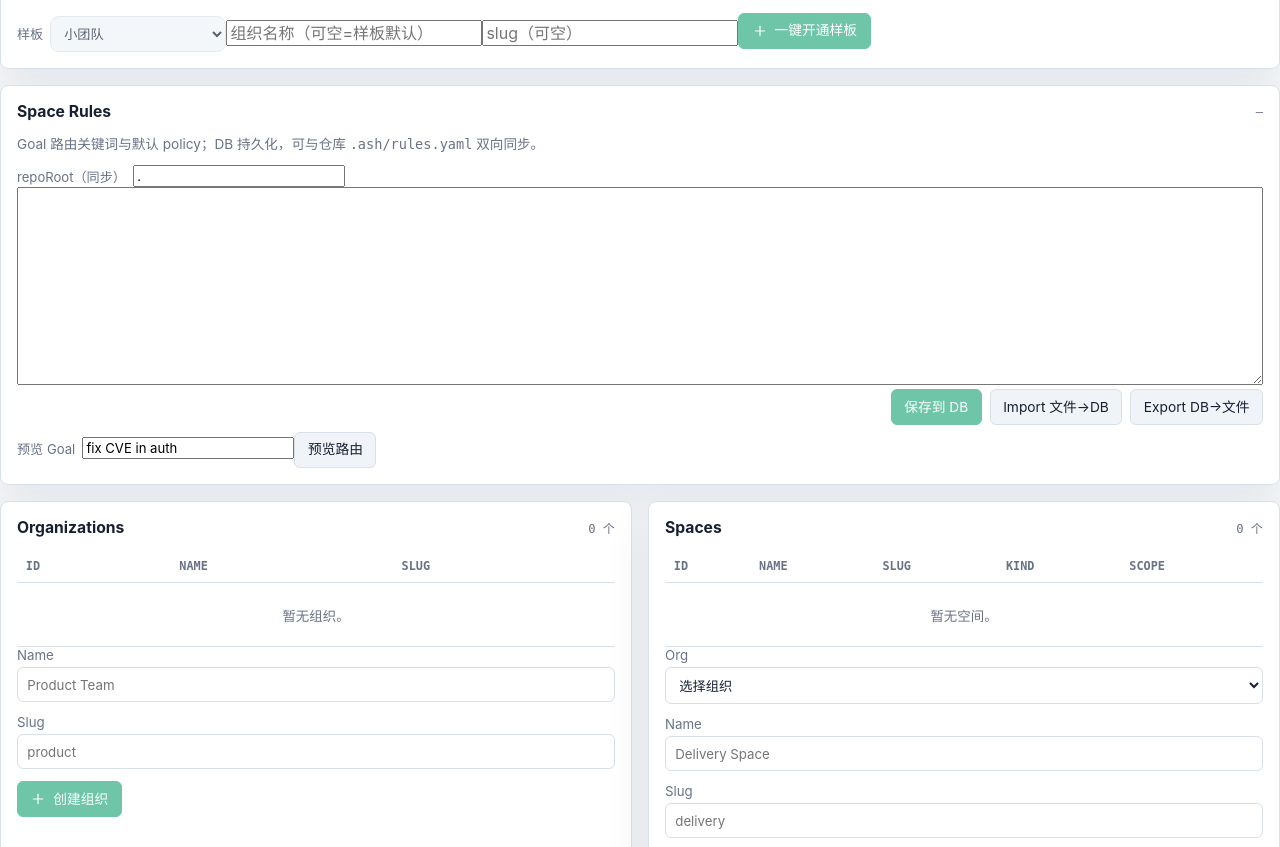
Test case: SpacePage › disables rules preview when Goal is empty
(page scrolled)
Step 1. Clear the field with test id "space-rules-preview-goal" → point(188, 448), box [82,438,294,460]
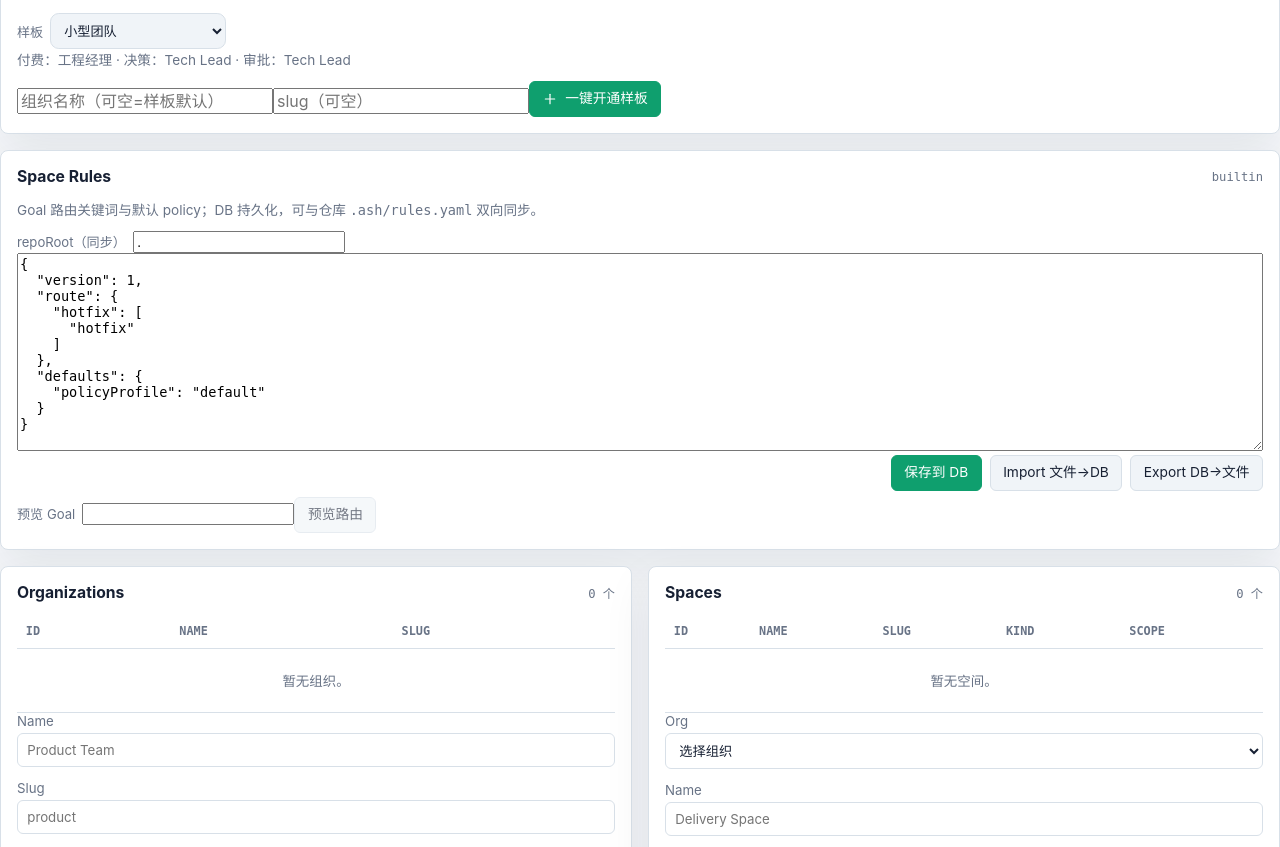
Check: the button with test id "space-rules-preview" is disabled, box [294,497,376,533]
